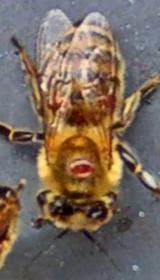varroa_mite: (61, 141, 107, 187), (88, 82, 120, 116), (41, 82, 70, 116)
